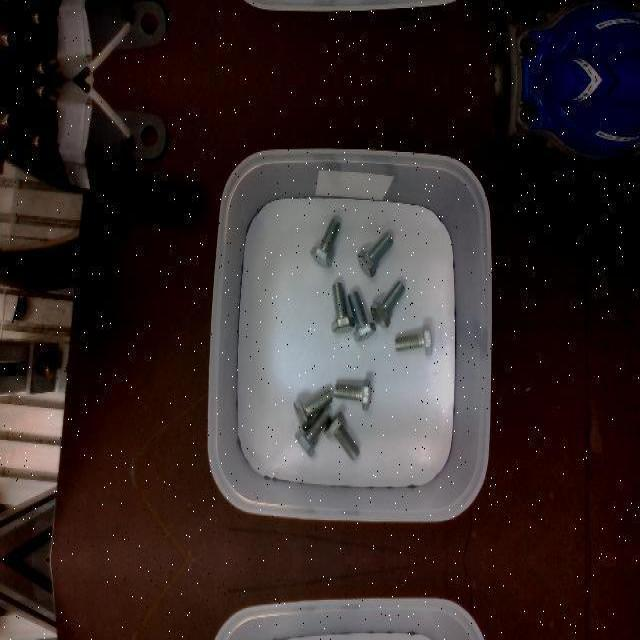screw: (325, 412, 360, 460), (293, 389, 332, 431), (294, 410, 328, 458), (370, 279, 405, 325), (357, 233, 393, 277), (310, 217, 341, 267), (347, 290, 375, 342), (330, 281, 354, 333), (395, 323, 433, 355), (335, 378, 372, 410)
